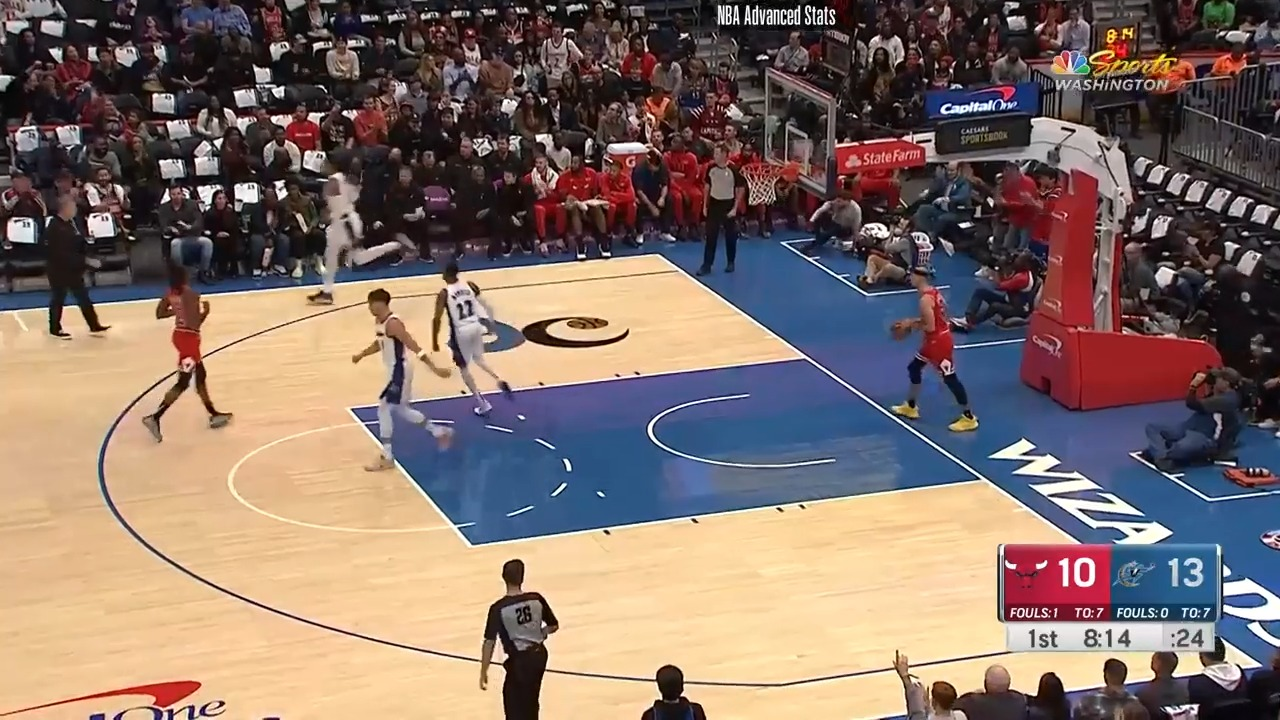net: (744, 154, 808, 209)
player: (350, 287, 459, 478), (141, 265, 232, 444), (886, 264, 976, 438), (427, 261, 513, 397), (299, 156, 368, 308)
referee: (469, 559, 557, 720), (693, 143, 741, 280)
